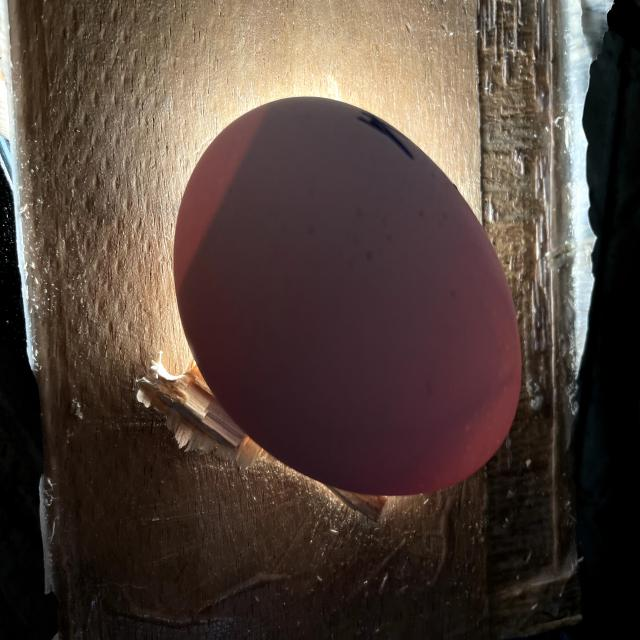fertile: (174, 97, 521, 495)
